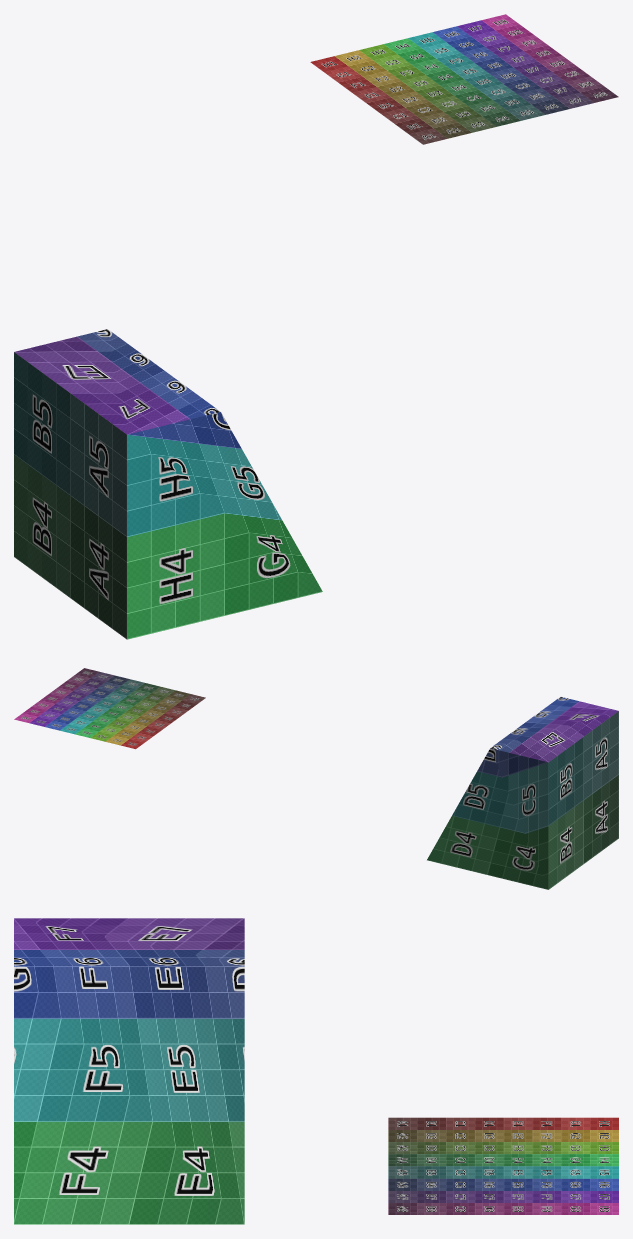
Rendered from simple_two.glb.
The picture shows the model from 3 angles, top to bottom: view 1: azimuth 30°, elevation 25°; view 2: azimuth 150°, elevation 25°; view 3: azimuth 270°, elevation 25°; orthographic projection. The views are drawn at different scales.
Visible parts, largest first — view 1: Cube, Plane; view 2: Cube, Plane; view 3: Cube, Plane.
Boxes of the visible parts, x1,y1,x2,y2 form: Cube: (14, 329, 322, 639); Plane: (310, 14, 618, 144); Cube: (427, 696, 618, 889); Plane: (14, 668, 205, 749); Cube: (14, 918, 244, 1224); Plane: (388, 1117, 618, 1214).
Size of the model in its own units: 6.9 by 2.38 by 5.25.
1 material, 1 textured.
